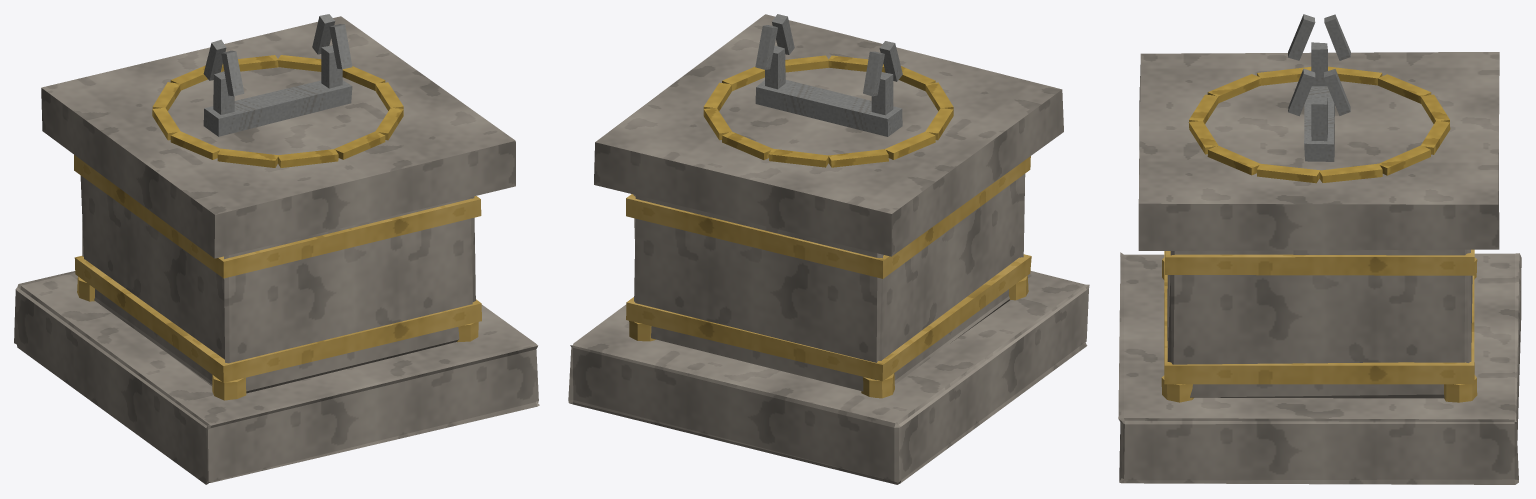
The model's file is loom_pedestal.glb.
3 views of the same model, side by side, from view 1: azimuth 30°, elevation 25°; view 2: azimuth 150°, elevation 25°; view 3: azimuth 270°, elevation 25° (orthographic). The views are drawn at different scales.
Visible parts, largest first — view 1: LoomPedestal, Cradle; view 2: LoomPedestal, Cradle; view 3: LoomPedestal, Cradle.
Part boxes in pixels (left/top/right/bottom): LoomPedestal: left=14, top=16, right=539, bottom=484; Cradle: left=203, top=14, right=352, bottom=136; LoomPedestal: left=568, top=14, right=1089, bottom=484; Cradle: left=755, top=14, right=902, bottom=136; LoomPedestal: left=1118, top=52, right=1521, bottom=484; Cradle: left=1288, top=14, right=1350, bottom=161.
Bounding box in the file's own units: 1.13 × 1.11 × 1.13.
4 materials, 4 textured.
